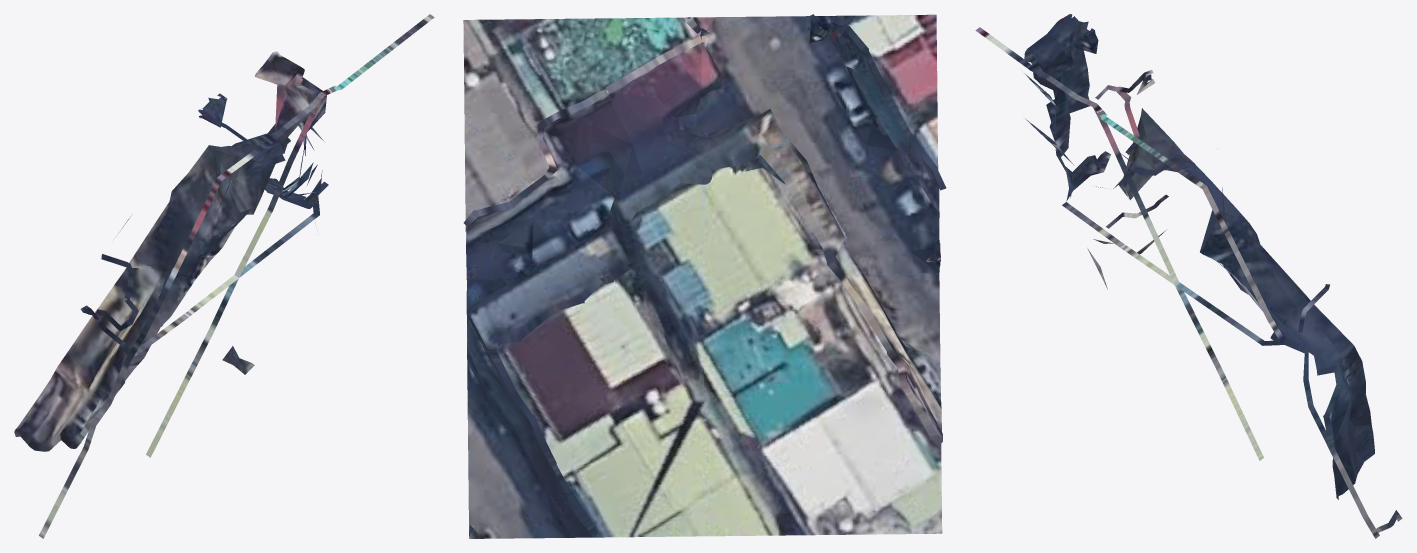
3 renders of one model, left to right at view 1: azimuth 30°, elevation 25°; view 2: azimuth 150°, elevation 25°; view 3: azimuth 270°, elevation 25°, orthographic. The views are drawn at different scales.
Bounding box in the file's own units: 39.33 × 37.24 × 33.85.
Materials: 1 (1 with a texture image).
